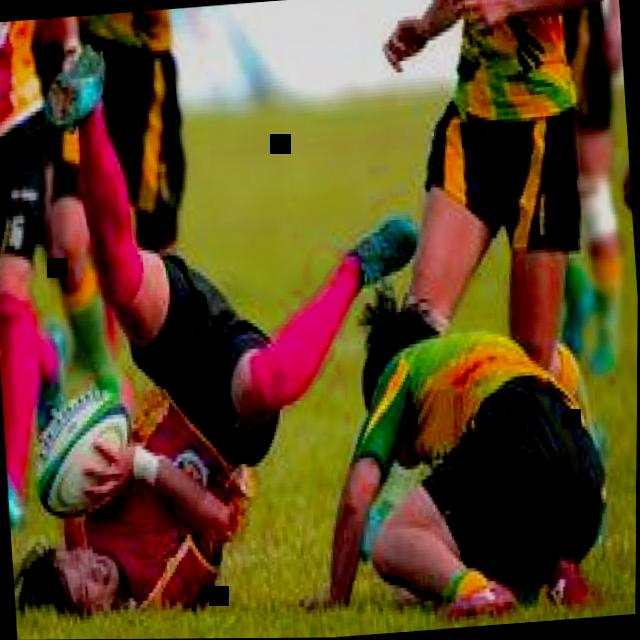Fall-Detected: (0, 81, 423, 640)
